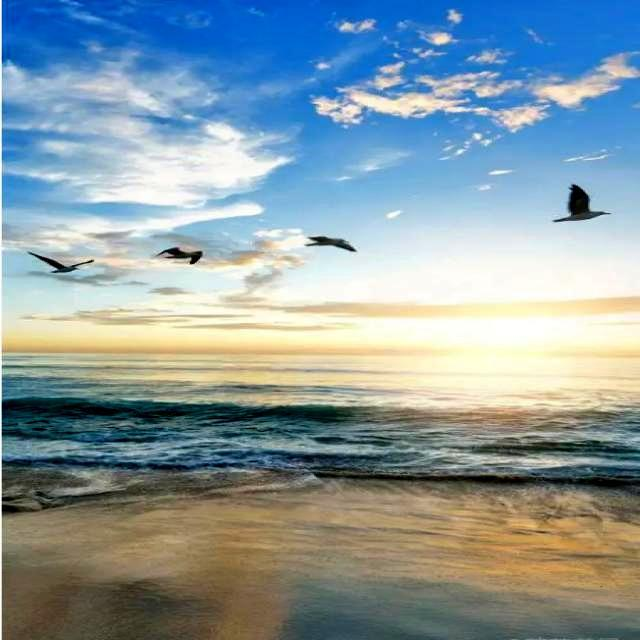bird: (552, 181, 608, 231), (31, 252, 104, 278), (150, 242, 210, 268), (302, 236, 362, 254)
